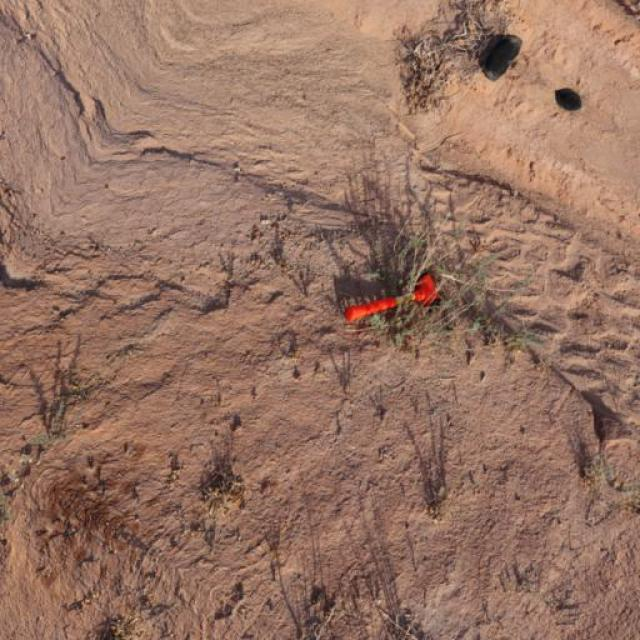mallet: (341, 271, 440, 325)
